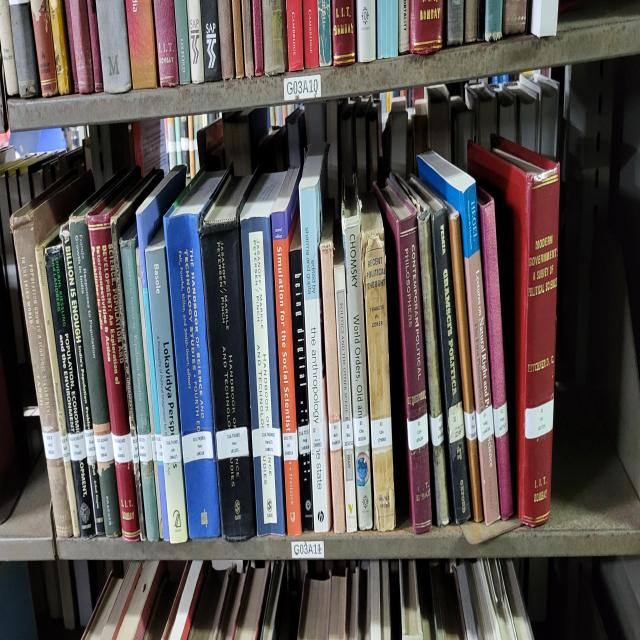Book: (469, 135, 560, 528), (10, 173, 92, 538), (420, 154, 500, 525), (164, 170, 225, 538), (200, 173, 258, 541), (375, 184, 431, 533), (86, 184, 140, 541), (69, 192, 121, 536), (418, 181, 470, 525), (240, 173, 286, 536), (44, 244, 95, 538), (35, 225, 80, 536), (60, 225, 105, 536), (145, 227, 189, 544), (442, 200, 484, 522), (136, 173, 185, 441), (412, 195, 450, 528), (111, 181, 146, 541), (299, 143, 331, 533), (120, 227, 159, 541), (476, 187, 512, 519), (361, 192, 395, 533), (271, 168, 301, 536), (341, 187, 372, 530), (320, 200, 346, 533), (136, 249, 164, 538), (290, 222, 314, 530), (334, 241, 358, 533), (159, 463, 170, 538), (348, 390, 350, 395), (339, 357, 340, 363), (340, 387, 342, 390), (478, 363, 479, 368)
Label: (525, 398, 554, 438), (216, 427, 249, 460), (182, 430, 214, 463), (251, 427, 281, 457), (408, 414, 429, 452), (448, 400, 465, 444), (475, 406, 494, 444), (371, 417, 392, 449), (111, 433, 132, 463), (42, 430, 62, 460), (94, 433, 114, 463), (161, 433, 181, 463), (69, 430, 86, 460), (282, 430, 299, 460), (352, 417, 369, 446), (494, 403, 508, 438), (430, 414, 444, 446), (84, 427, 96, 463), (138, 433, 152, 463), (329, 419, 341, 452), (341, 419, 354, 449), (298, 425, 310, 455), (464, 411, 476, 441), (61, 433, 71, 463), (131, 436, 139, 463), (155, 433, 162, 463), (151, 433, 156, 463)
